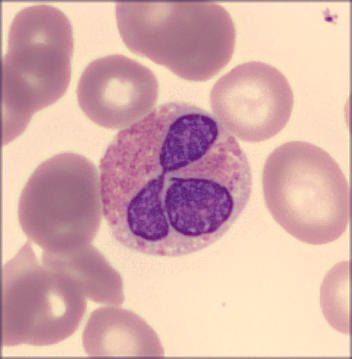EO: (100, 101, 253, 255)
PLT: (322, 7, 340, 28)
RBC: (260, 141, 347, 246), (209, 62, 297, 143), (15, 166, 99, 249), (38, 230, 125, 307), (157, 1, 237, 80), (9, 268, 85, 345), (78, 55, 157, 129), (28, 150, 99, 225), (6, 4, 75, 80), (1, 41, 72, 113), (1, 238, 44, 350), (113, 1, 201, 55), (83, 304, 165, 359), (1, 59, 34, 148), (316, 256, 352, 336)
